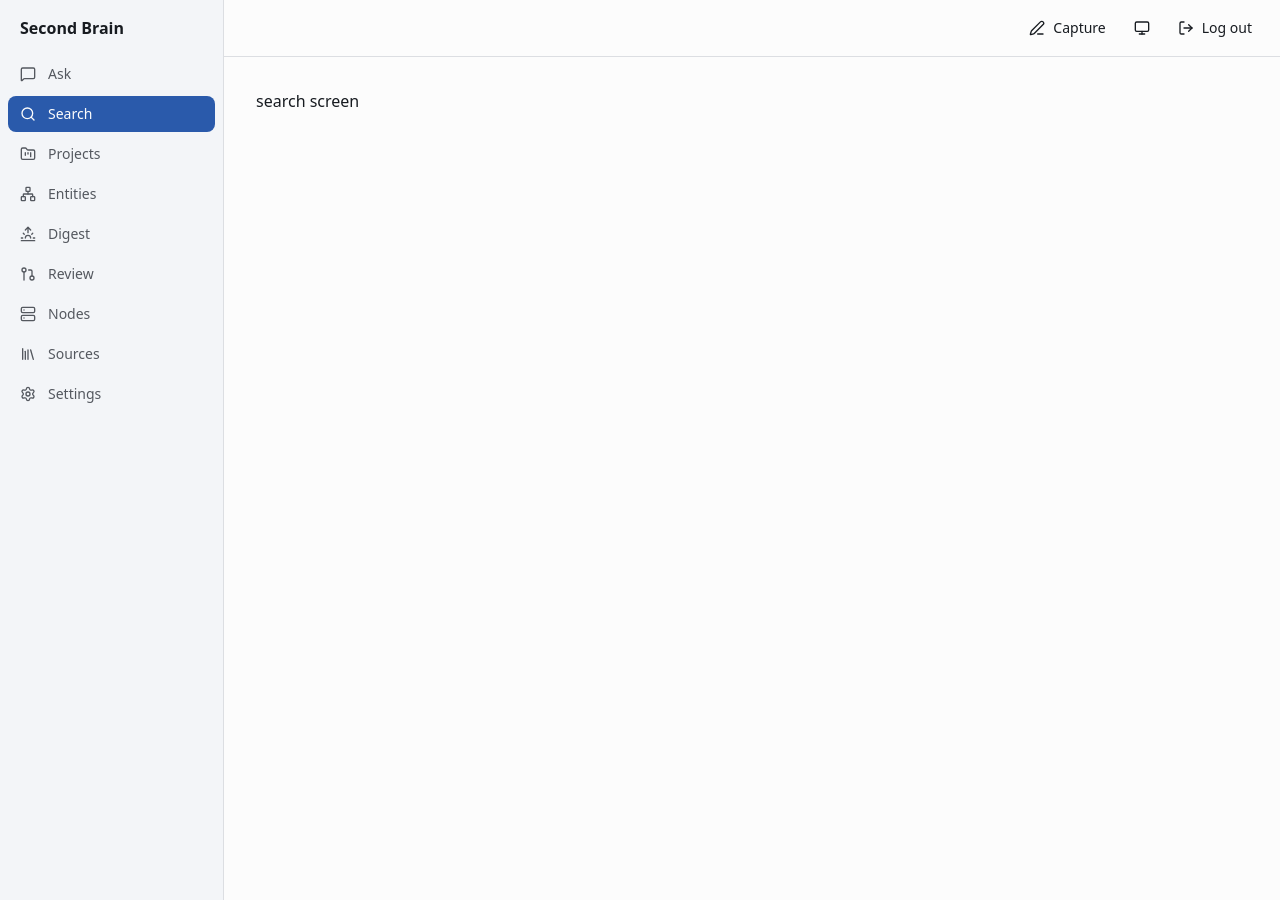
AppShell › capture › omits the link for a non-obsidian URL
Click the button "Capture".
click(1068, 28)  # box x1=1017 y1=12 x2=1118 y2=44
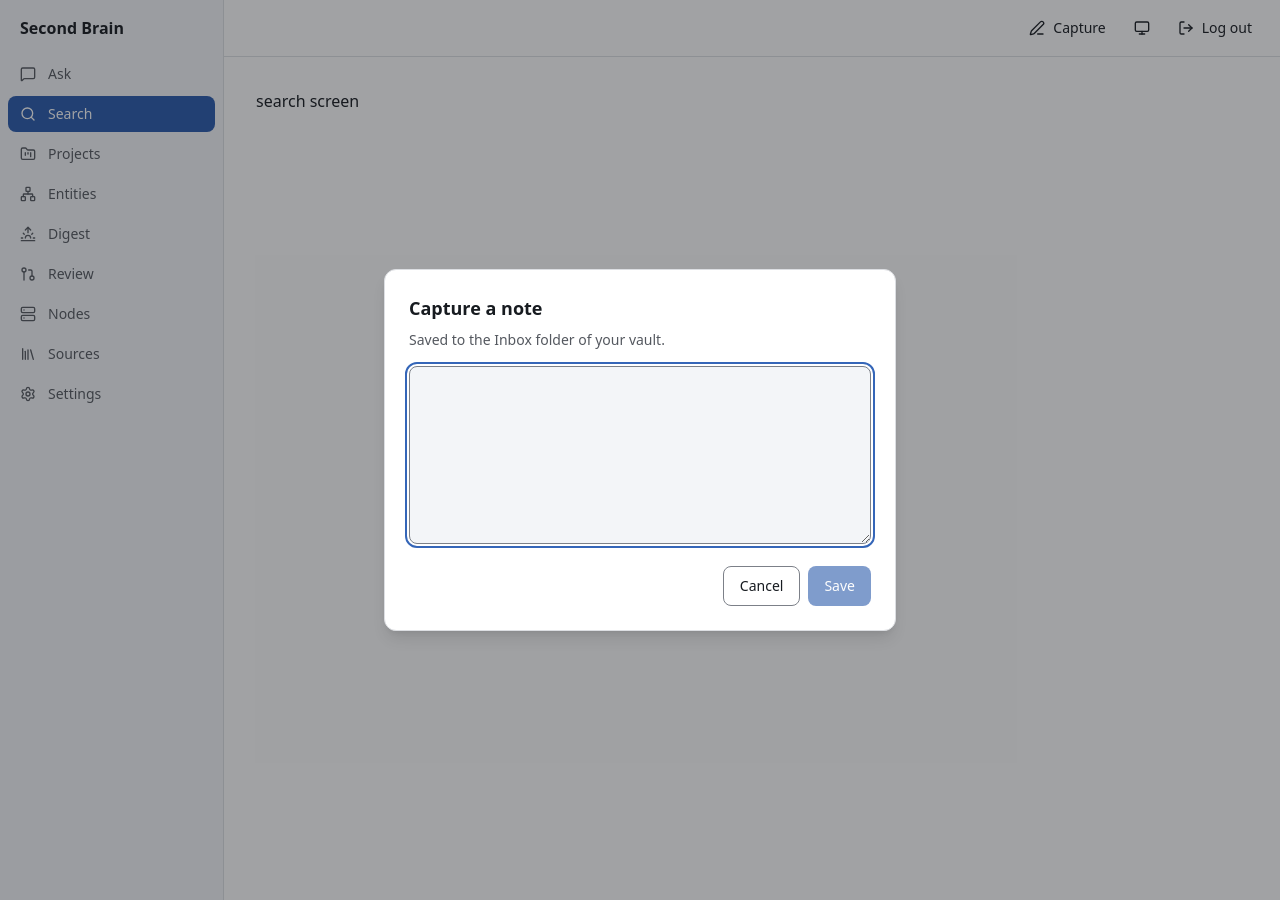
Type "hi" into the text box named "Note".
click(640, 455); type("hi")  # box x1=409 y1=366 x2=871 y2=544
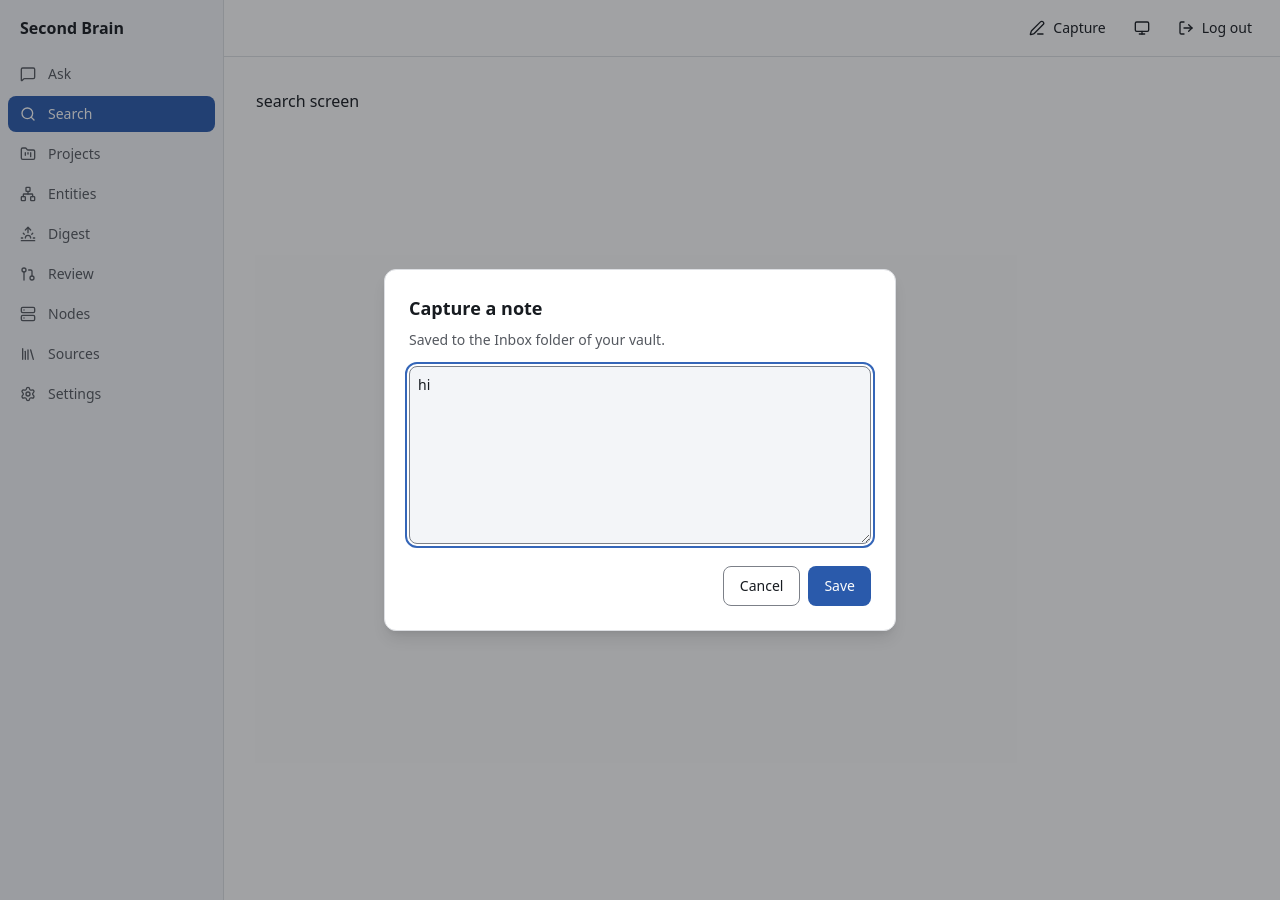
Click the button "Save".
click(840, 586)  # box x1=808 y1=566 x2=871 y2=606
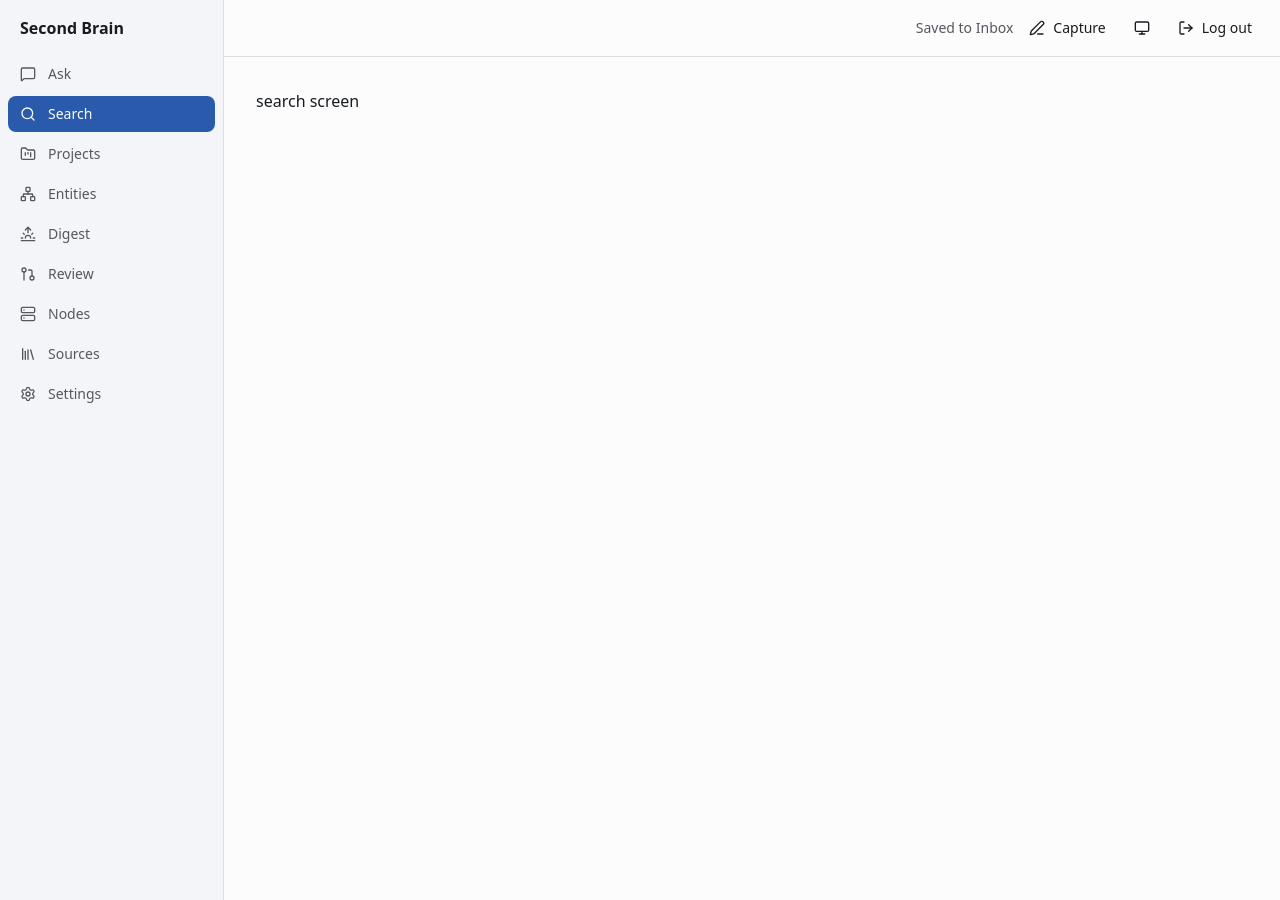
Result: the text "Saved to Inbox" is shown at x1=916 y1=18 x2=1013 y2=37
